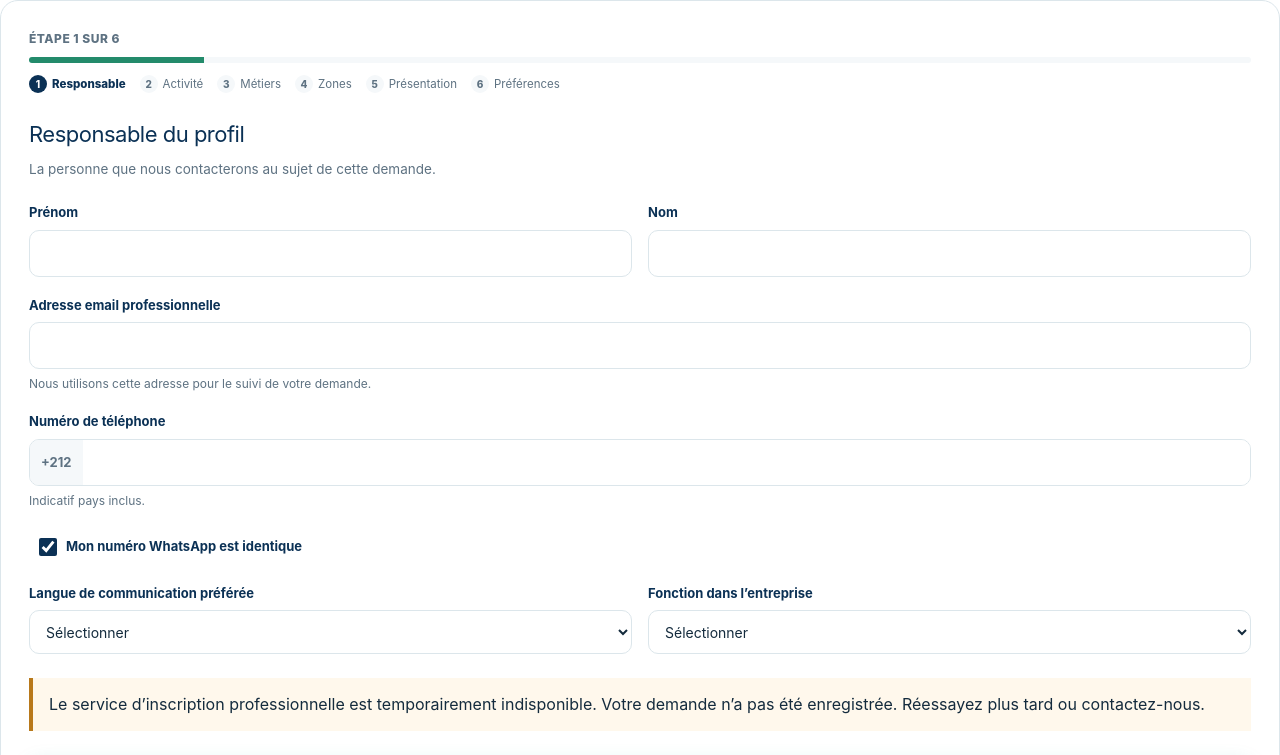
RegistrationForm navigation › reveals the conditional field when the role is 'other'
Select "Autre" in the dropdown with id "contact" at (950, 632), box 648,610 -> 1251,654
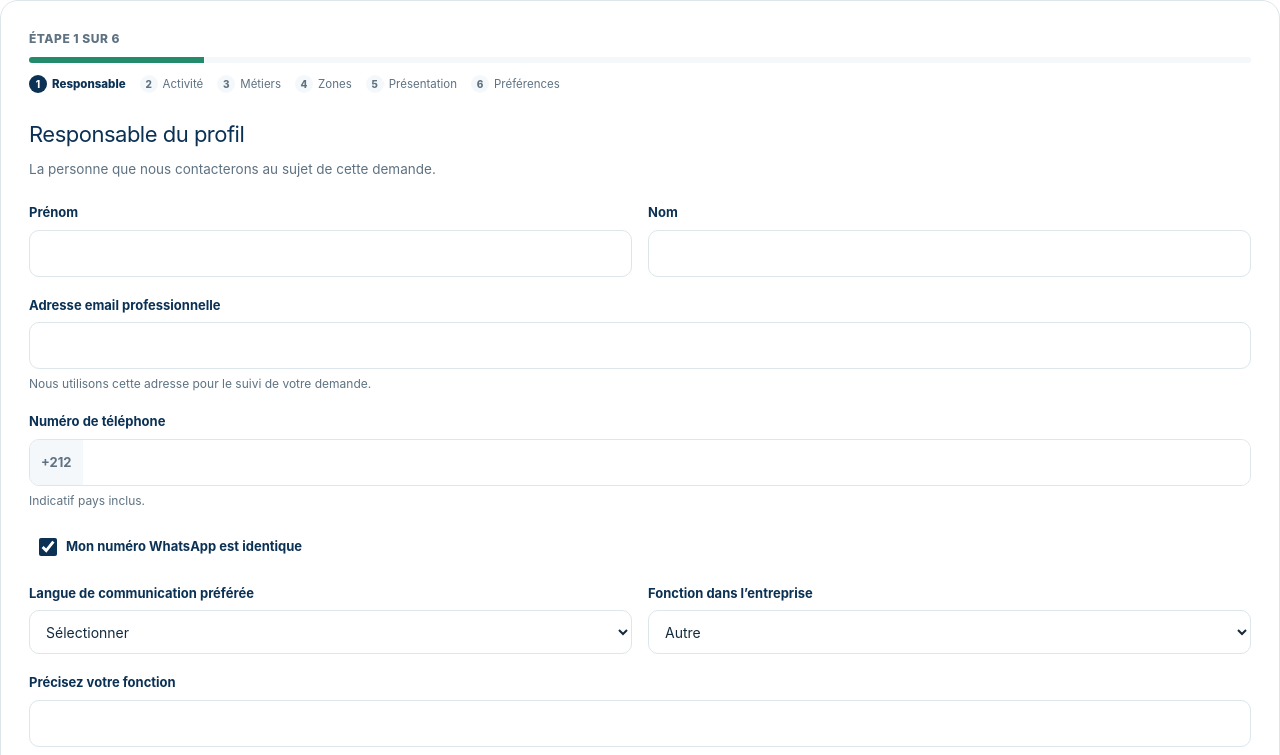
Now the field with id "contact" is shown, box 29,700 -> 1251,747
